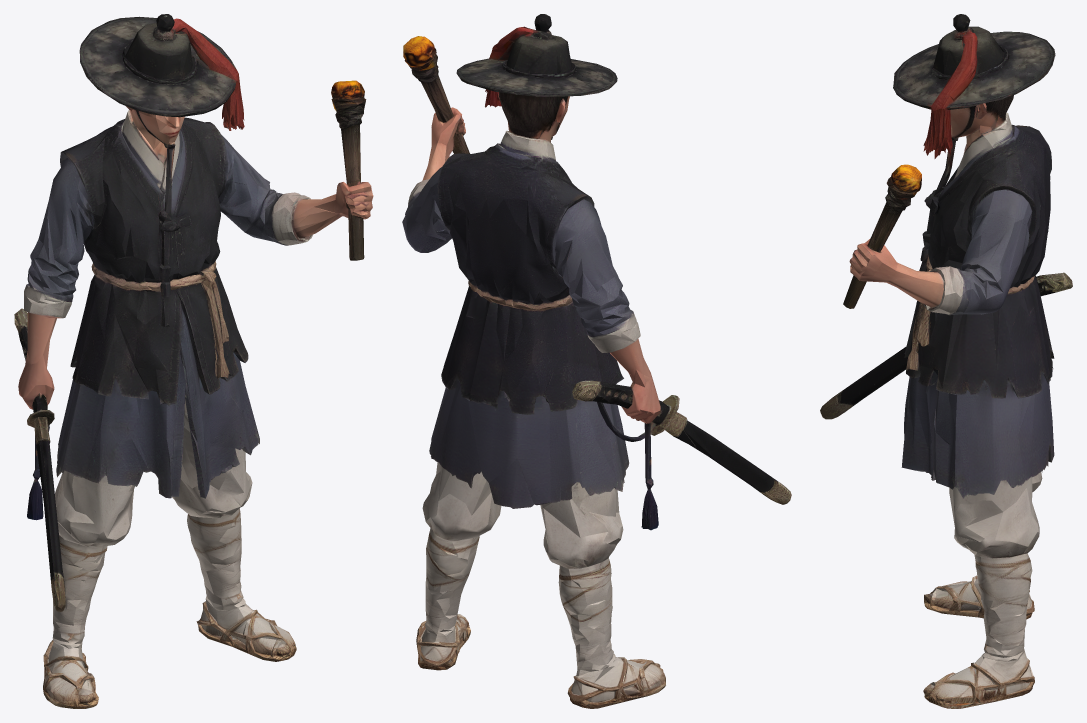
Rendered from rioter_torch.glb.
3 renders of one model, left to right at view 1: azimuth 30°, elevation 25°; view 2: azimuth 150°, elevation 25°; view 3: azimuth 270°, elevation 25°, orthographic. The views are drawn at different scales.
Size of the model in its own units: 1.05 by 1.9 by 0.6807.
Materials: 1 (1 with a texture image).
